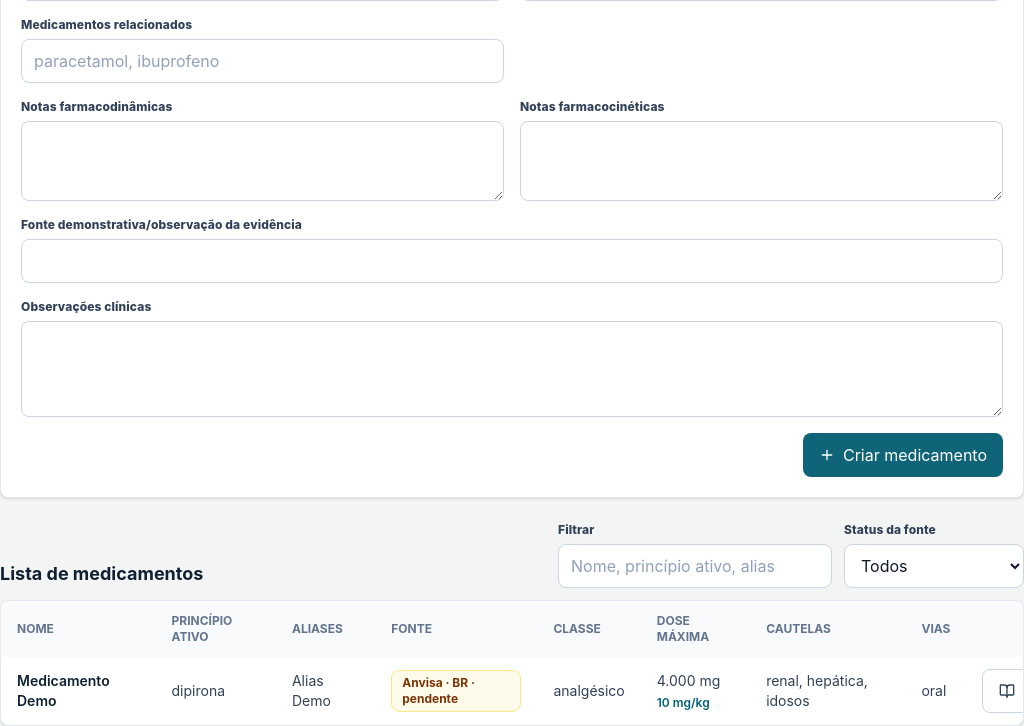
Test: catálogo de medicamentos › expõe aliases, fonte e pendência em desktop e mobile
This screenshot has width=1024, height=726.
(page scrolled)
In the field labelled "Filtrar": point(695, 566) [558, 544, 832, 588], type "inexistente"
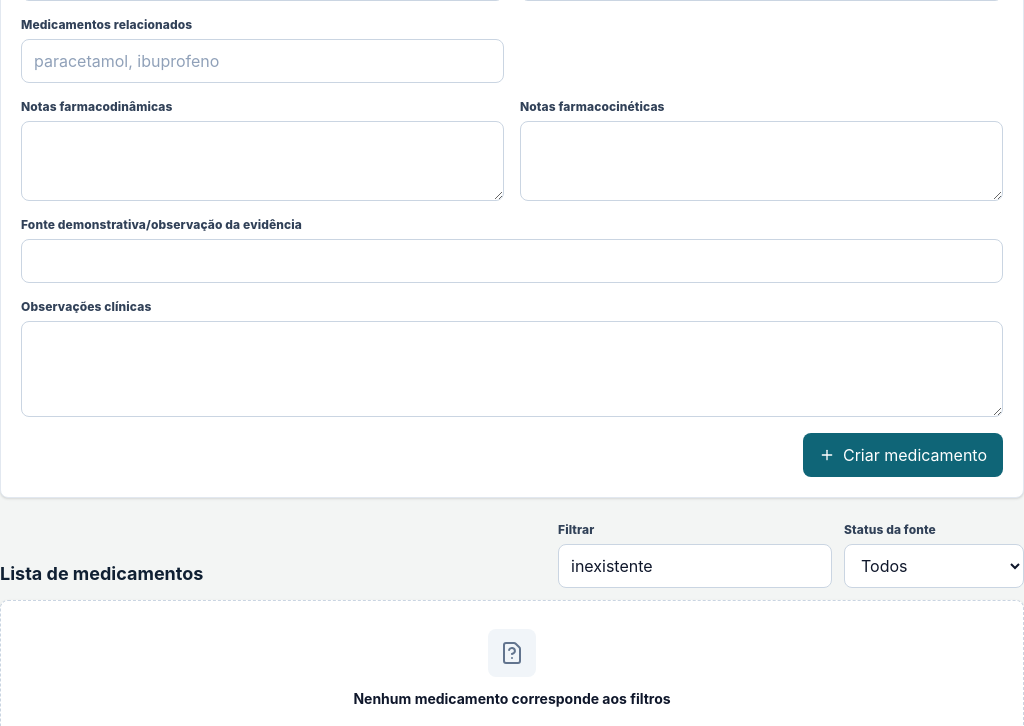
Now the heading "Nenhum medicamento corresponde aos filtros" is shown, box [353, 690, 671, 706]
